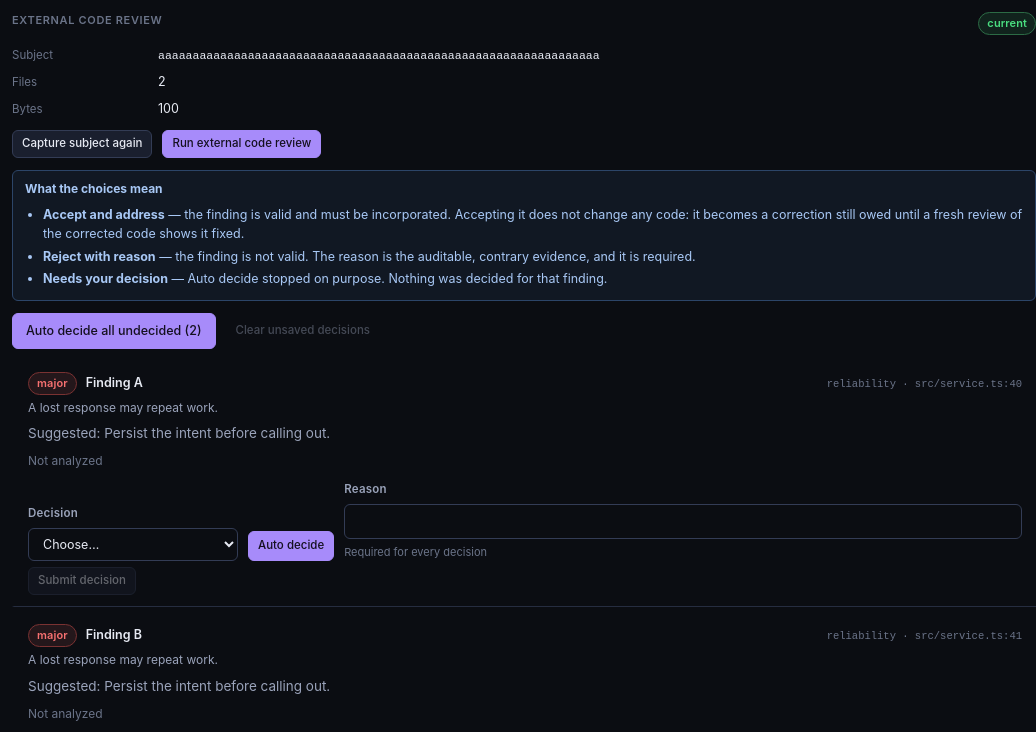
Test: code review: Auto decide beside every Decision › records an accept at once: the finding shows its durable decision and the renderer submits nothing itself
Expected: the text "Finding A" is shown, [86,373,143,392]
Click the button with aria-label "Auto decide: Finding A" at (291, 546), box [248,531,334,561]
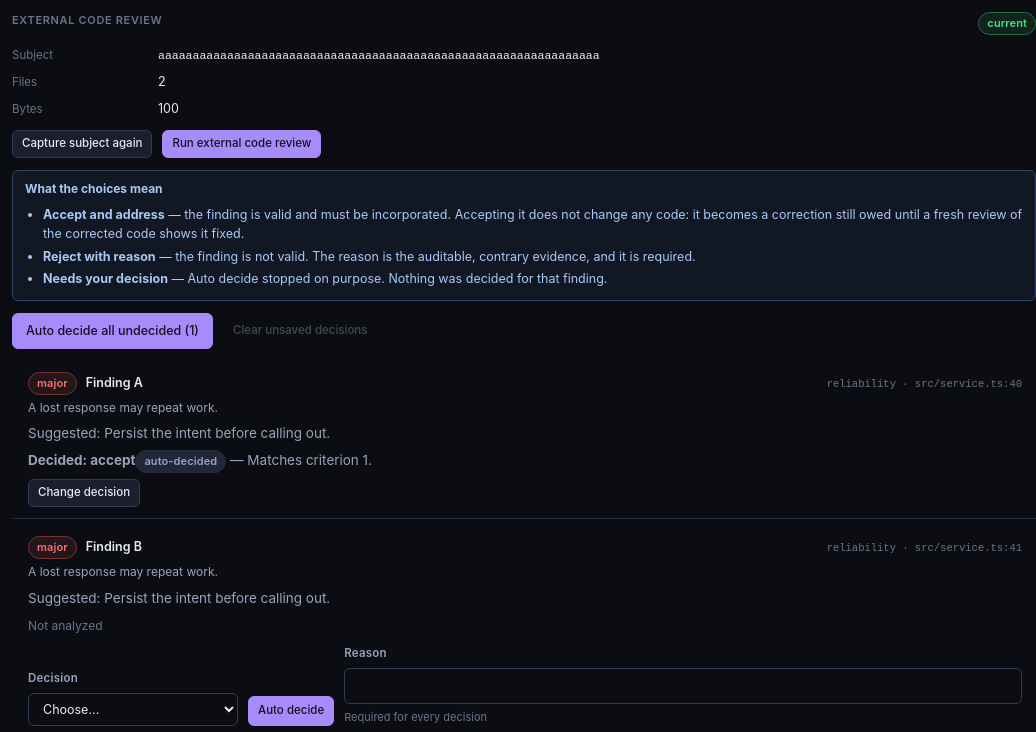
Now the text "Decided: accept" shows "auto-decided", box [144,454,217,468]
Now the text "Decided: accept" shows "Matches criterion 1.", box [247,452,372,468]
Now the number of dropdowns labelled "Decision" is 1, box [28,693,238,726]
